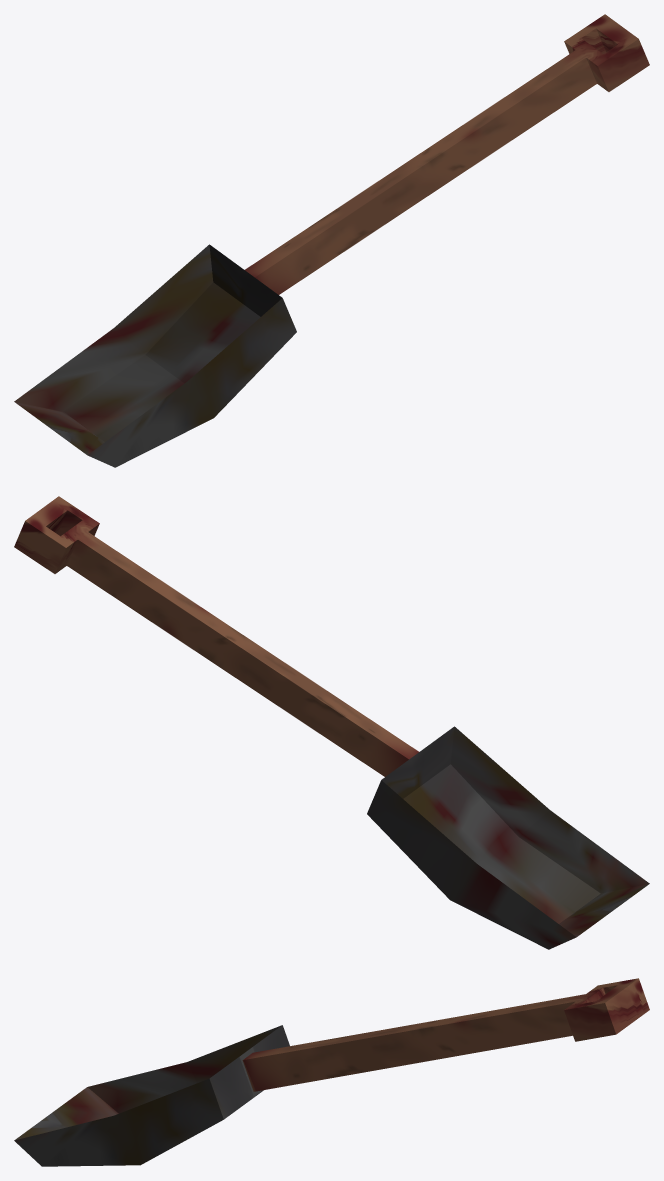
The model's file is lopata.glb.
3 renders of one model, top to bottom at view 1: azimuth 30°, elevation 25°; view 2: azimuth 150°, elevation 25°; view 3: azimuth 330°, elevation 25°, orthographic.
Visible parts, largest first — view 1: Cube.012; view 2: Cube.012; view 3: Cube.012.
Part boxes in pixels (bbox=[...]): Cube.012: bbox=[14, 14, 649, 467]; Cube.012: bbox=[14, 496, 649, 949]; Cube.012: bbox=[14, 978, 649, 1166].
Bounding box in the file's own units: 5.79 × 2.68 × 1.26.
Materials: 2 (2 with a texture image).
